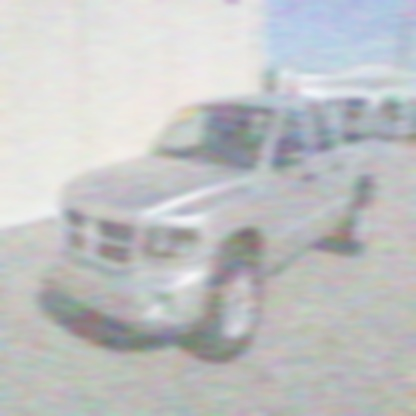Vehicle: (42, 90, 385, 356)
